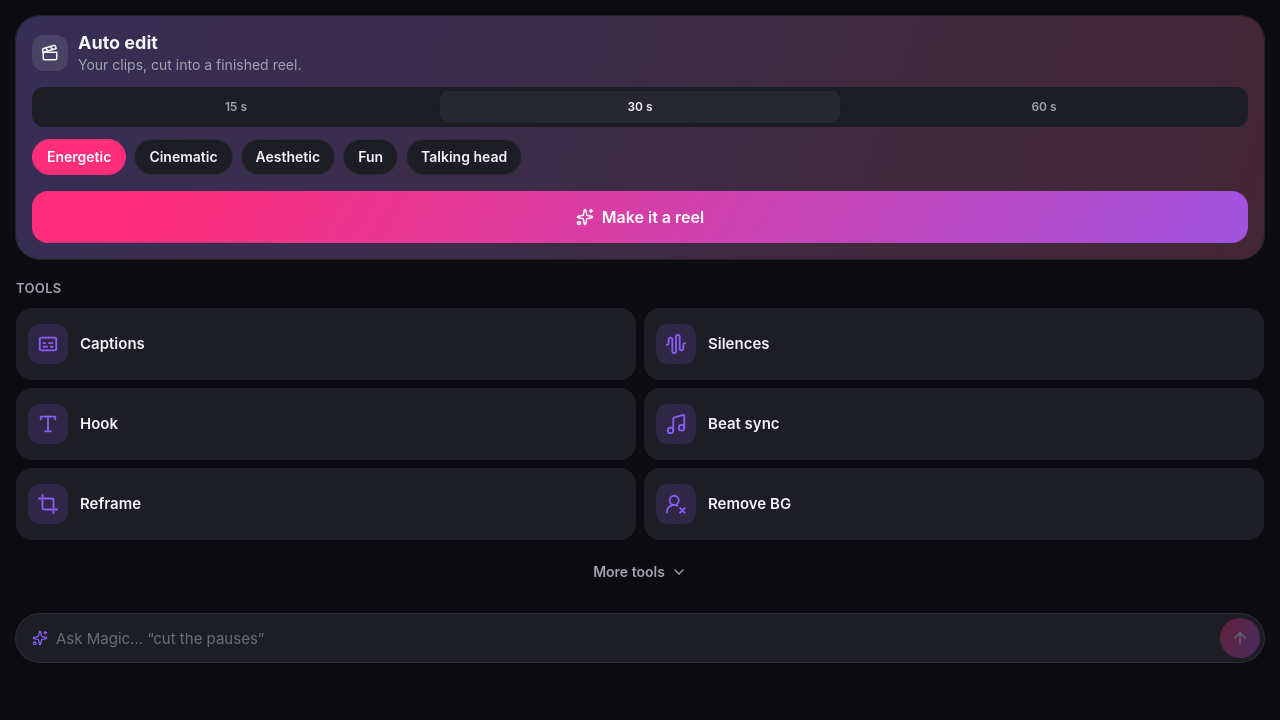
Test case: AI panel › "Ask Magic" opens the tool for a short request, and back returns to the grid
Type "cut the pauses" into the field labelled "Ask Magic" at x=634, y=638, box [56,614,1212,662]
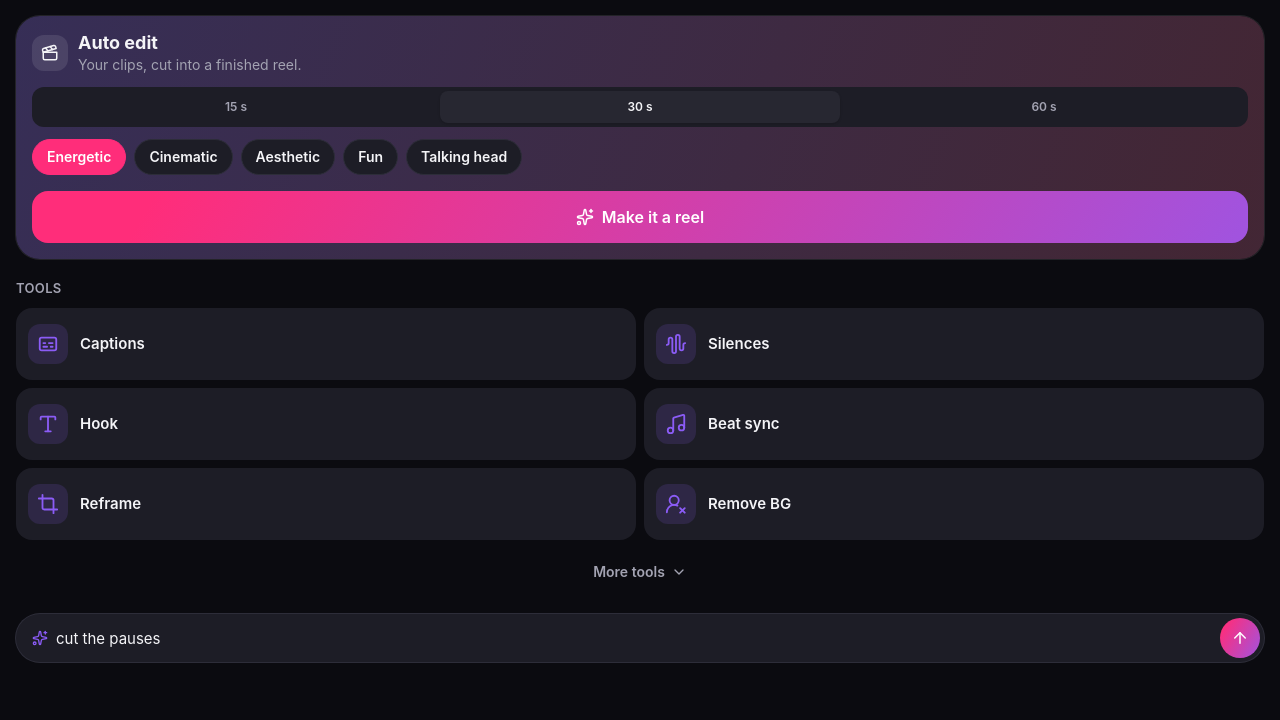
Submit the form from the field named "Ask Magic", box [56,614,1212,662]
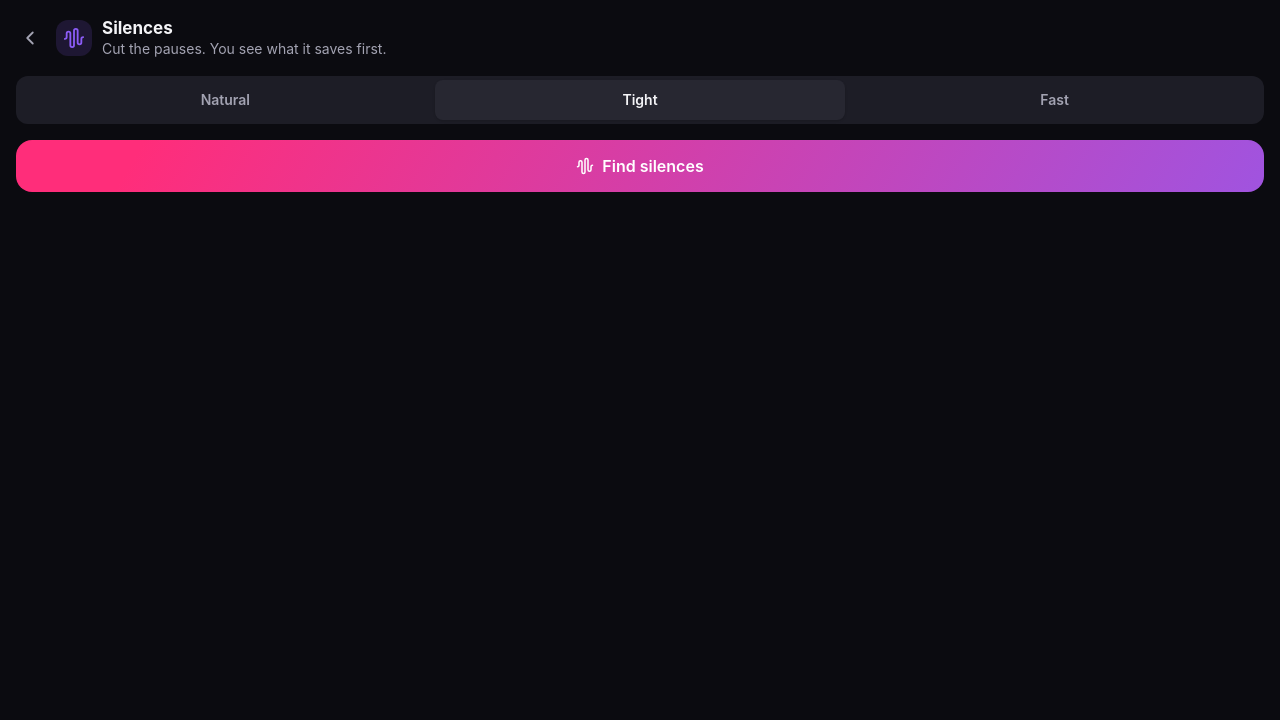
Expected: the element "Silences" is shown, [16,16,1264,192]
Expected: the button "Find silences" is shown, [16,140,1264,192]
Click the button named "Back to Magic" at x=30, y=38, box [8,16,52,60]
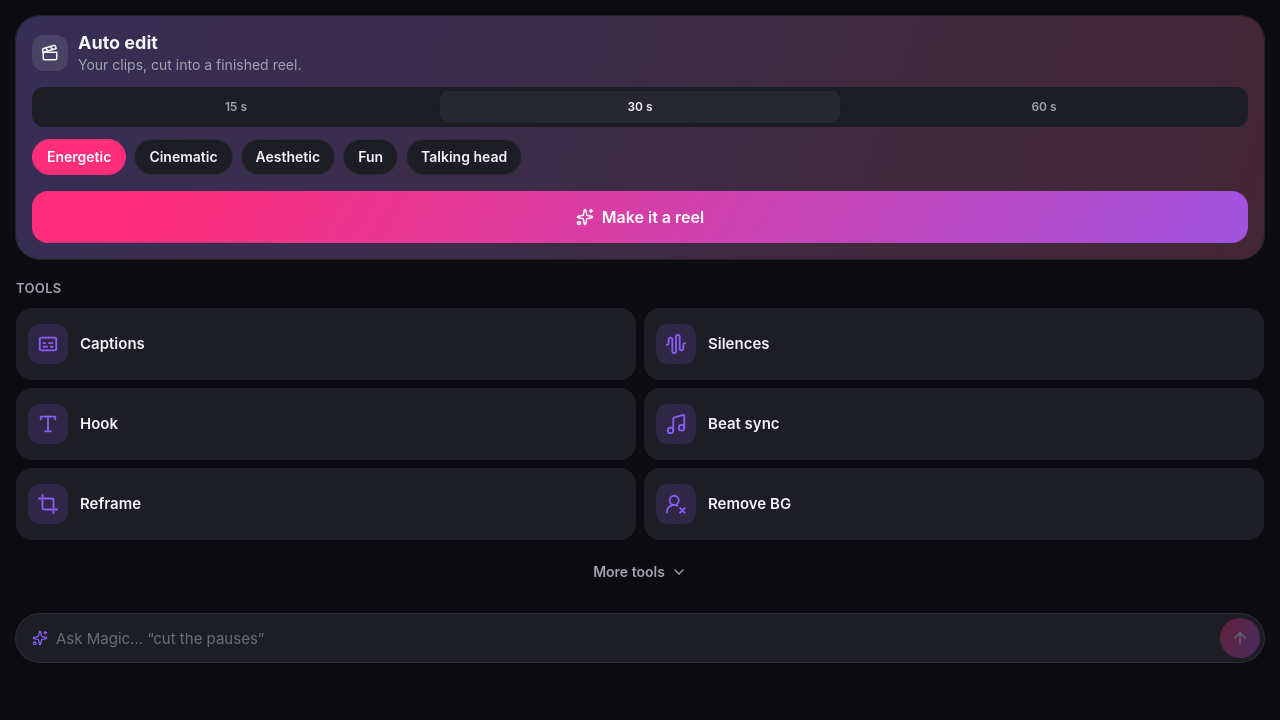
Expected: the element named "Magic tools" is shown, [16,278,1264,594]
